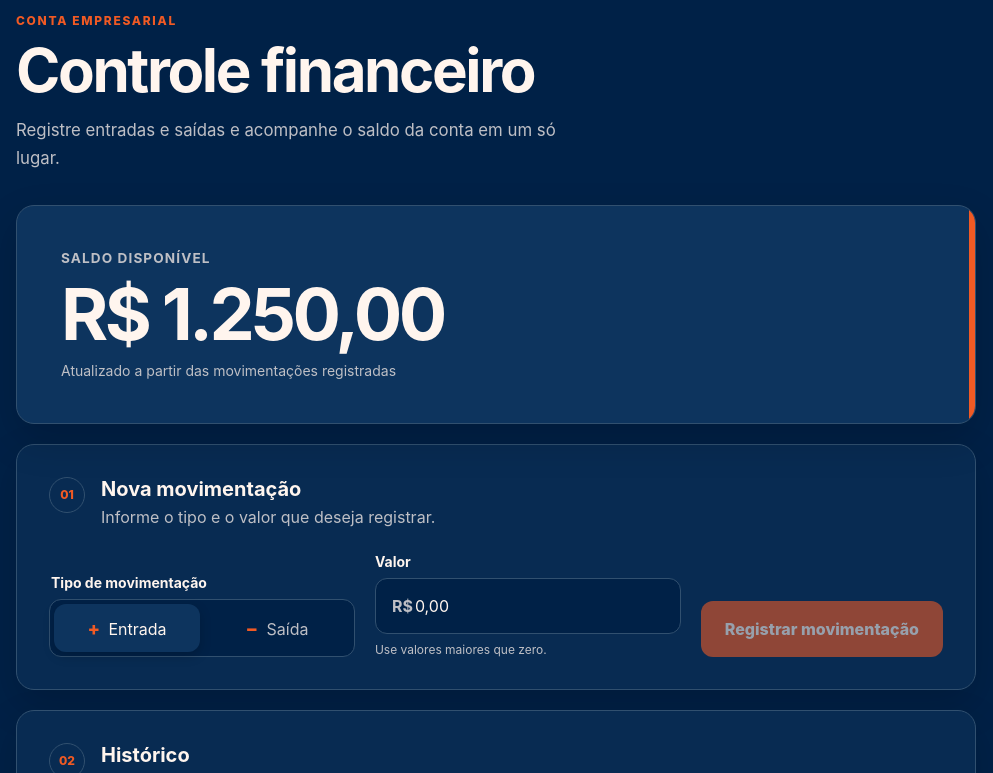
it: App › shows a friendly message when the debit is rejected
Expected: the text "R$ 1.250,00" is shown, [61, 270, 444, 357]
Click the radio button labelled "Saída" at x=277, y=628, box [204, 604, 350, 652]
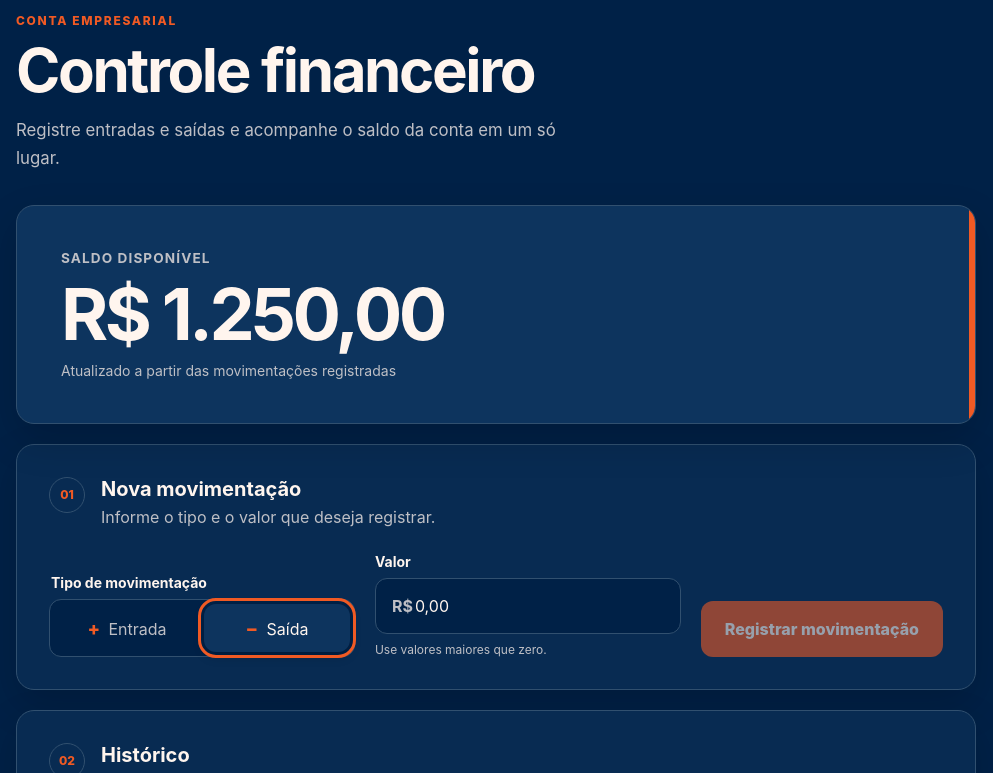
Type "200000" into the field labelled "Valor" at x=546, y=606, box [413, 595, 680, 617]
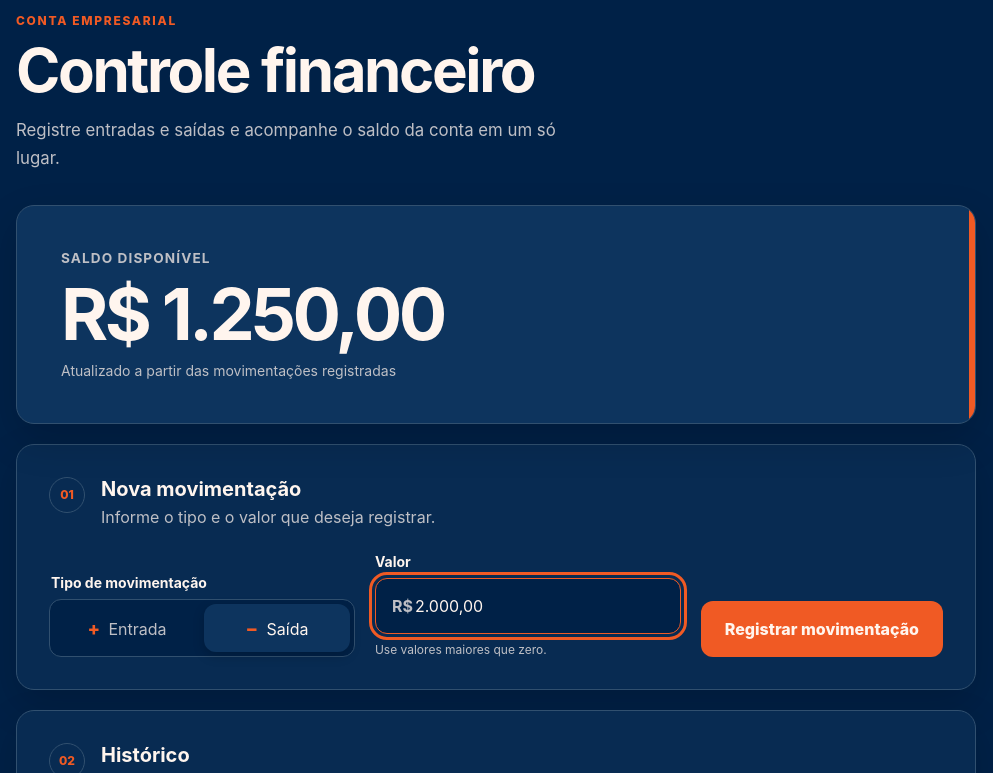
Click the button "Registrar movimentação" at x=822, y=629, box [701, 601, 943, 657]
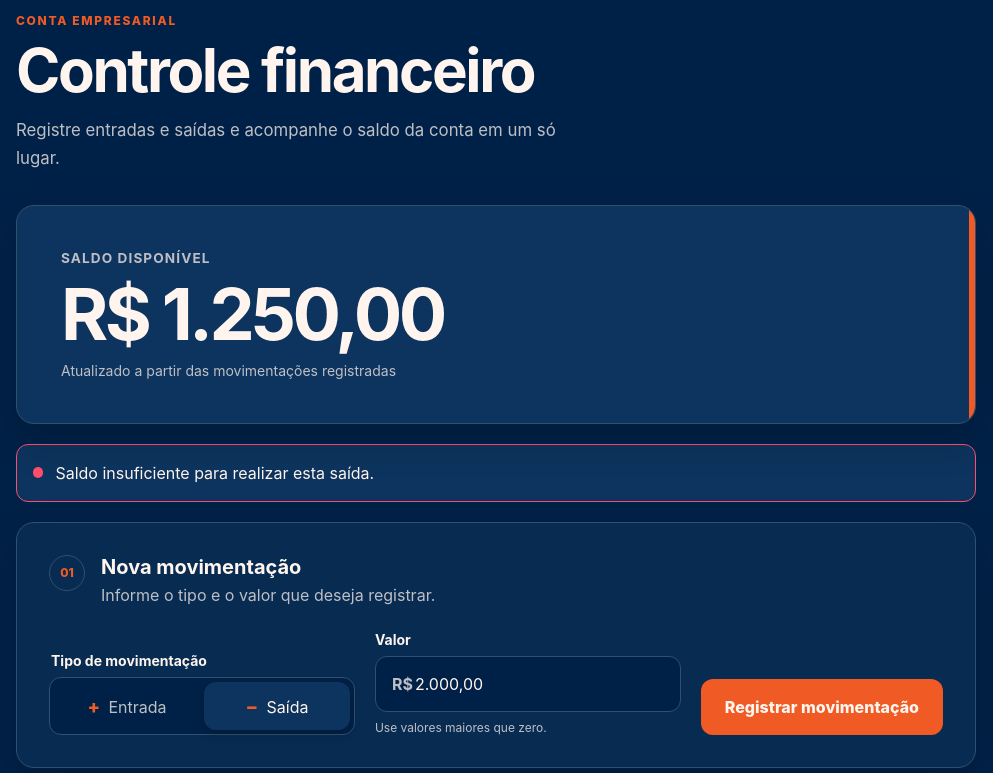
Expected: the message reads "Saldo insuficiente para realizar esta saída.", [55, 463, 374, 483]
